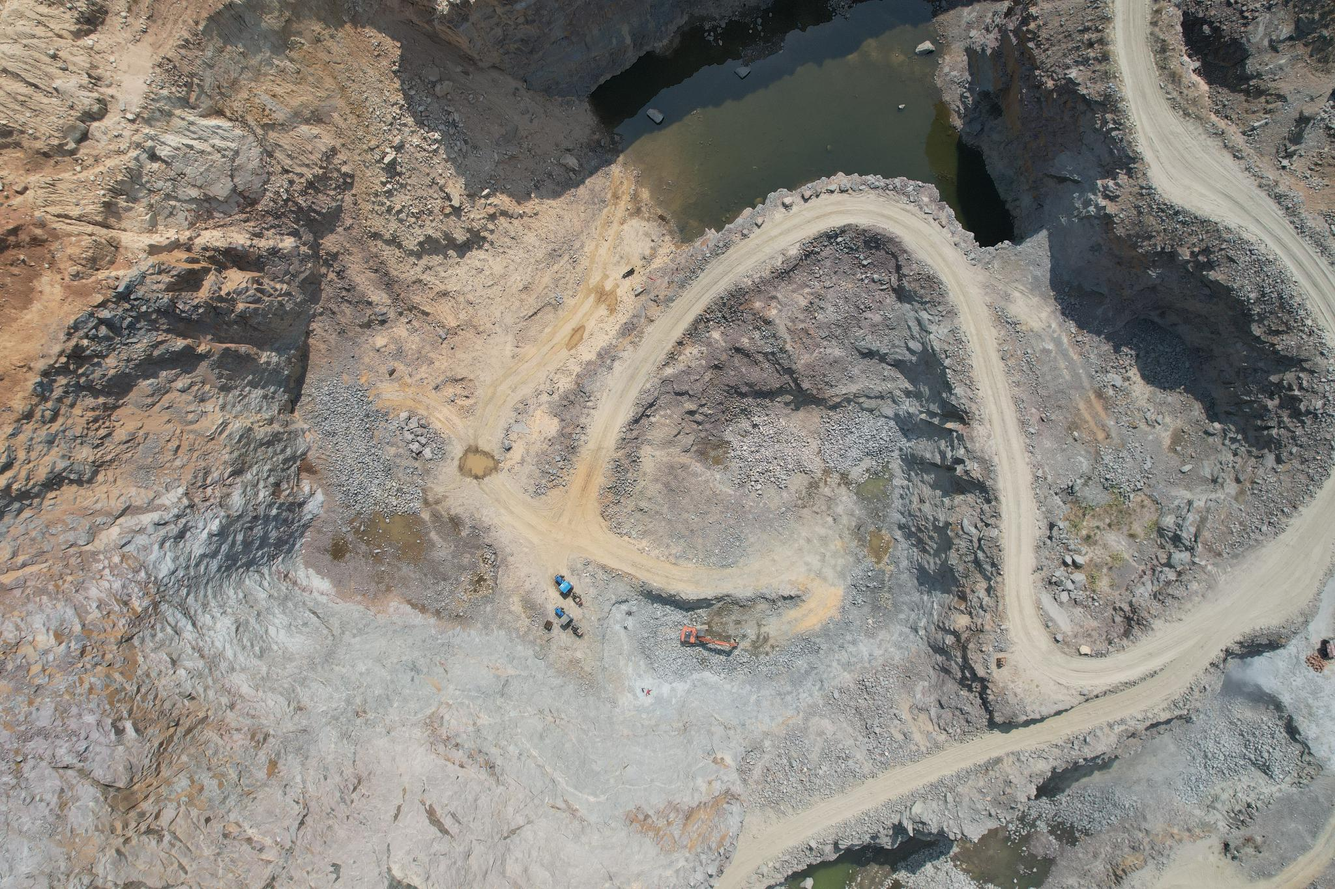benches: (591, 195, 1335, 889), (472, 193, 1036, 608), (1111, 0, 1335, 347), (376, 350, 555, 445)
excavator: (675, 616, 742, 657)
